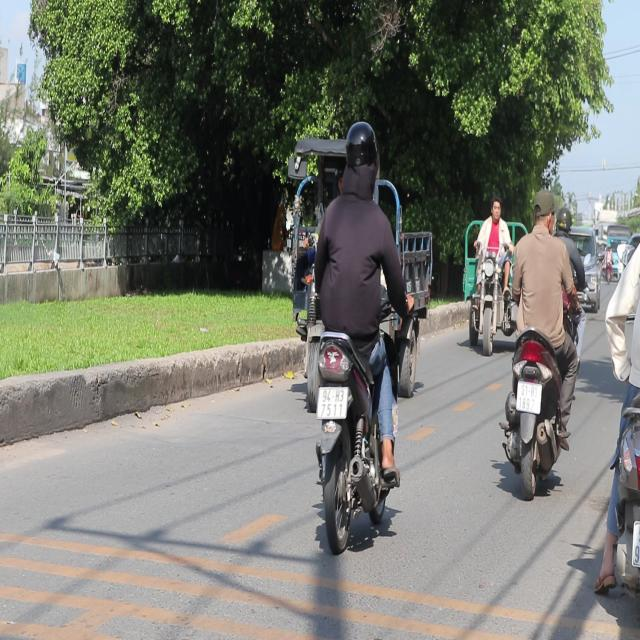helmet: (339, 119, 380, 198)
licenseplate: (303, 115, 409, 552), (498, 183, 582, 497)
motorcyclist: (531, 188, 555, 232)
nohelmet: (316, 387, 347, 420), (516, 382, 542, 414)
